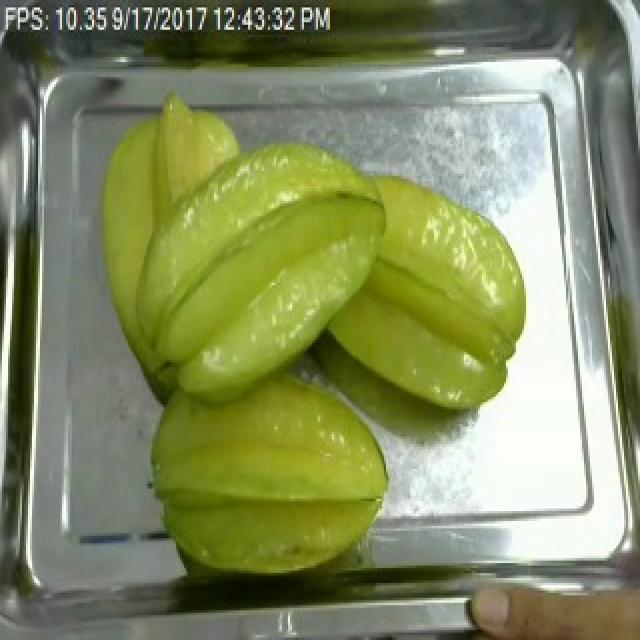fruit: (84, 92, 406, 419), (128, 350, 404, 593), (304, 159, 542, 429), (458, 550, 640, 640)
